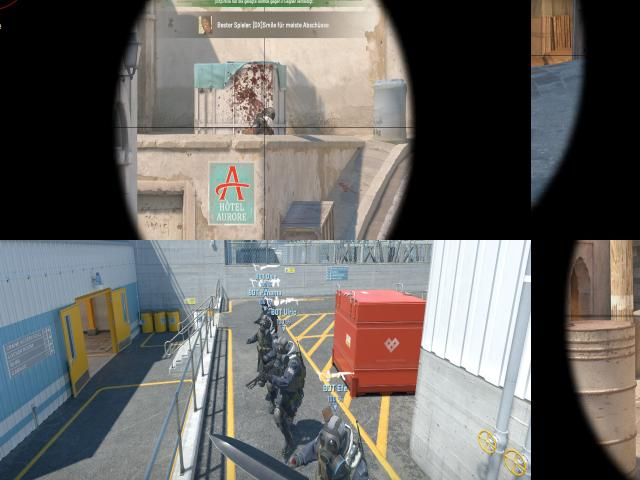CT: (313, 417, 369, 480), (278, 337, 305, 446), (261, 320, 277, 401), (258, 296, 277, 330)
CT-Head: (321, 416, 349, 461), (275, 338, 289, 359), (259, 317, 271, 332), (263, 299, 271, 310)
Dead: (252, 103, 284, 138)
